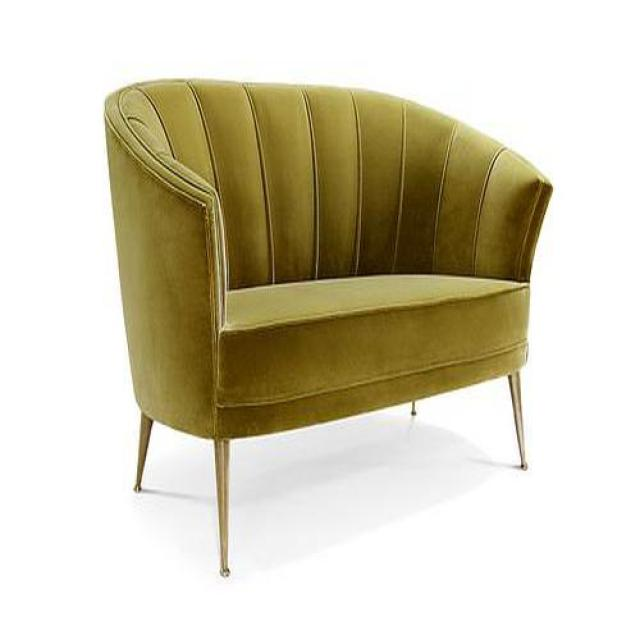sofa: (104, 79, 553, 580)
